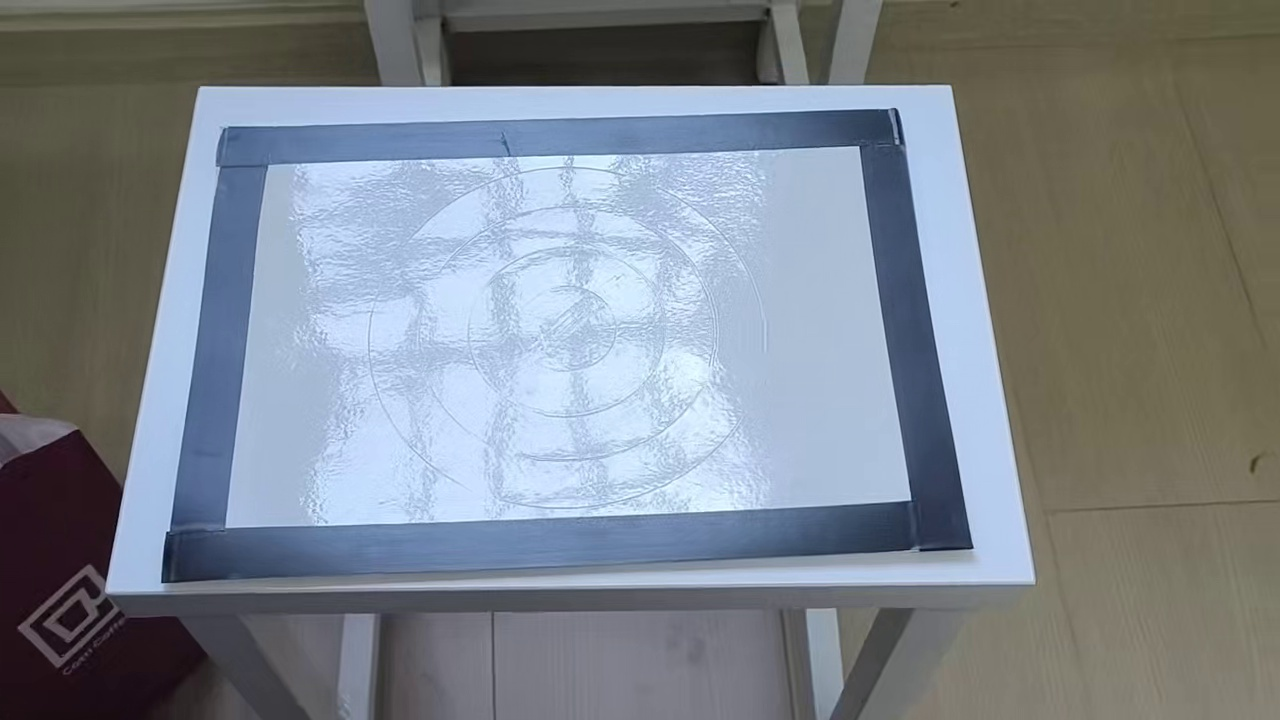board: (158, 107, 978, 584)
